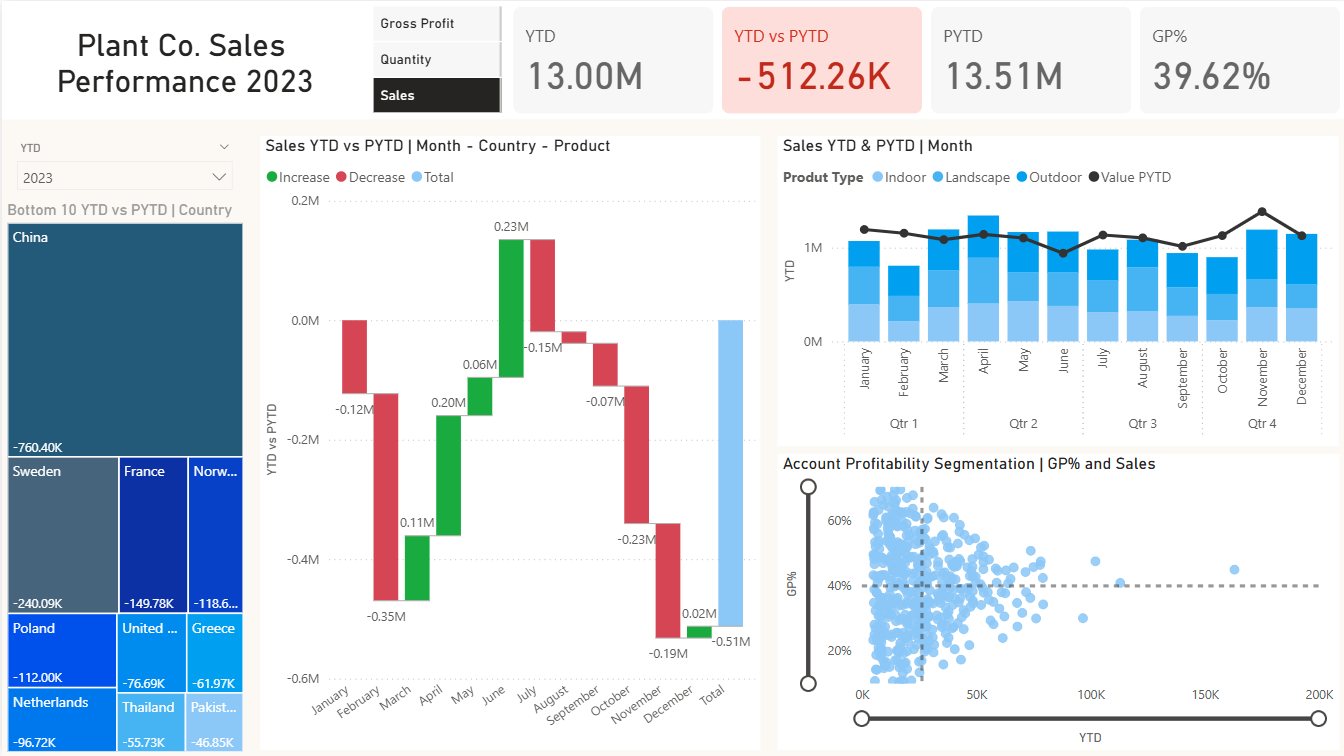

The page's visual inventory and layout, read from the dashboard file:
{"tool":"powerbi","page":{"name":"Page 1","canvas":[1280,720],"ordinal":0},"visuals":[{"type":"shape","box":[0,0,1279.7,112.5],"z":0},{"type":"cardVisual","fields":{"Data":["_Measures.S_YTD","_Measures.YTD vs PYTD","_Measures.S_PYTD","_Measures.GP%"]},"box":[481.2,0,798.4,112.5],"z":1000},{"type":"advancedSlicerVisual","fields":{"Values":["Slc_Values.Values"]},"box":[348.4,0,132.8,112.5],"z":2000},{"type":"slicer","fields":{"Values":["Dim_Date.Date.Variation.Date Hierarchy.Year"]},"box":[4.7,128.1,225,62.5],"z":3000},{"type":"treemap","title":"Bottom 10 YTD vs PYTD | Country","fields":{"Group":["Dim_Account.country"],"Values":["_Measures.YTD vs PYTD"]},"box":[0,190.6,234.4,529.7],"z":4000},{"type":"waterfallChart","fields":{"Y":["_Measures.YTD vs PYTD"],"Category":["Dim_Date.Date.Variation.Date Hierarchy.Month","Dim_Account.country","Dim_Product.Produt_Type","Dim_Product.Product_Name"]},"box":[245.3,128.7,477,584.5],"z":5000},{"type":"lineStackedColumnComboChart","fields":{"Y":["_Measures.S_YTD"],"Y2":["_Measures.S_PYTD"],"Category":["Dim_Date.Date.Variation.Date Hierarchy.Quarter","Dim_Date.Date.Variation.Date Hierarchy.Month"],"Series":["Dim_Product.Produt_Type"]},"box":[739.1,128.1,534.4,295.3],"z":6000},{"type":"scatterChart","fields":{"Y":["_Measures.GP%"],"X":["_Measures.S_YTD"],"Category":["Dim_Account.Account"]},"box":[738.9,431.5,534.5,281.6],"z":7000},{"type":"card","fields":{"Values":["_Measures._Report Title"]},"box":[0,0,348.4,112.5],"z":8000}]}

Visuals, with their boxes in screenshot pixels (x1, y1, x2, y2), scaled from the page's 1280x720 canvas onto the 1344x756 screenshot:
shape: (x1=0, y1=0, x2=1343, y2=118)
cardVisual - _Measures.S_YTD x _Measures.YTD vs PYTD: (x1=505, y1=0, x2=1343, y2=118)
advancedSlicerVisual - Slc_Values.Values: (x1=366, y1=0, x2=505, y2=118)
slicer - Dim_Date.Date.Variation.Date Hierarchy.Year: (x1=5, y1=135, x2=241, y2=200)
"Bottom 10 YTD vs PYTD | Country" treemap: (x1=0, y1=200, x2=246, y2=755)
waterfallChart - _Measures.YTD vs PYTD x Dim_Date.Date.Variation.Date Hierarchy.Month: (x1=258, y1=135, x2=758, y2=749)
lineStackedColumnComboChart - _Measures.S_YTD x _Measures.S_PYTD: (x1=776, y1=135, x2=1337, y2=445)
scatterChart - _Measures.GP% x _Measures.S_YTD: (x1=776, y1=453, x2=1337, y2=749)
card - _Measures._Report Title: (x1=0, y1=0, x2=366, y2=118)
